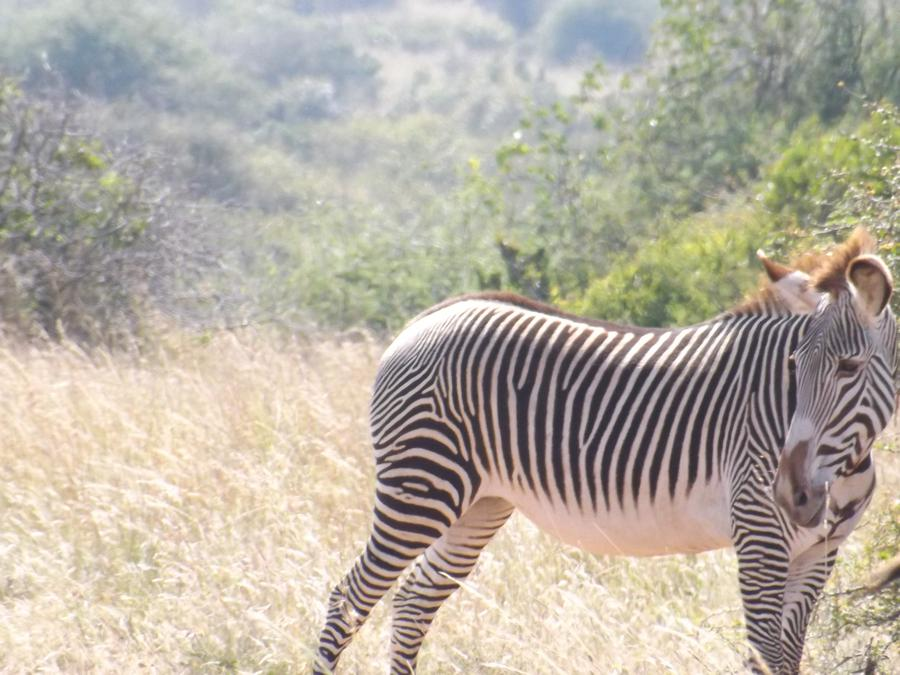zebra_grevys: (374, 259, 802, 554)
